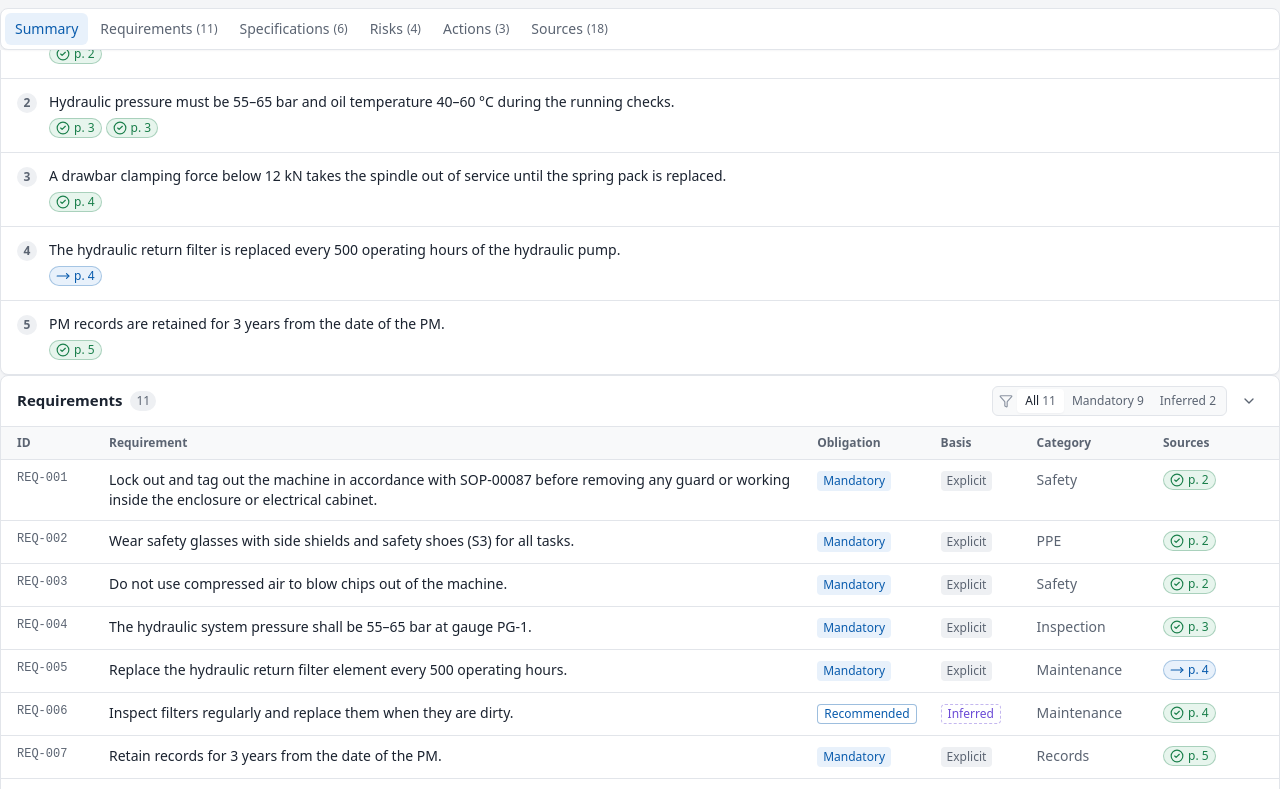
Test: ReportView › filters requirements by mandatory and inferred
Later steps or results of the test are not shown.
(page scrolled)
Click the button "Mandatory 9": (1108, 401) [1064,389,1152,413]
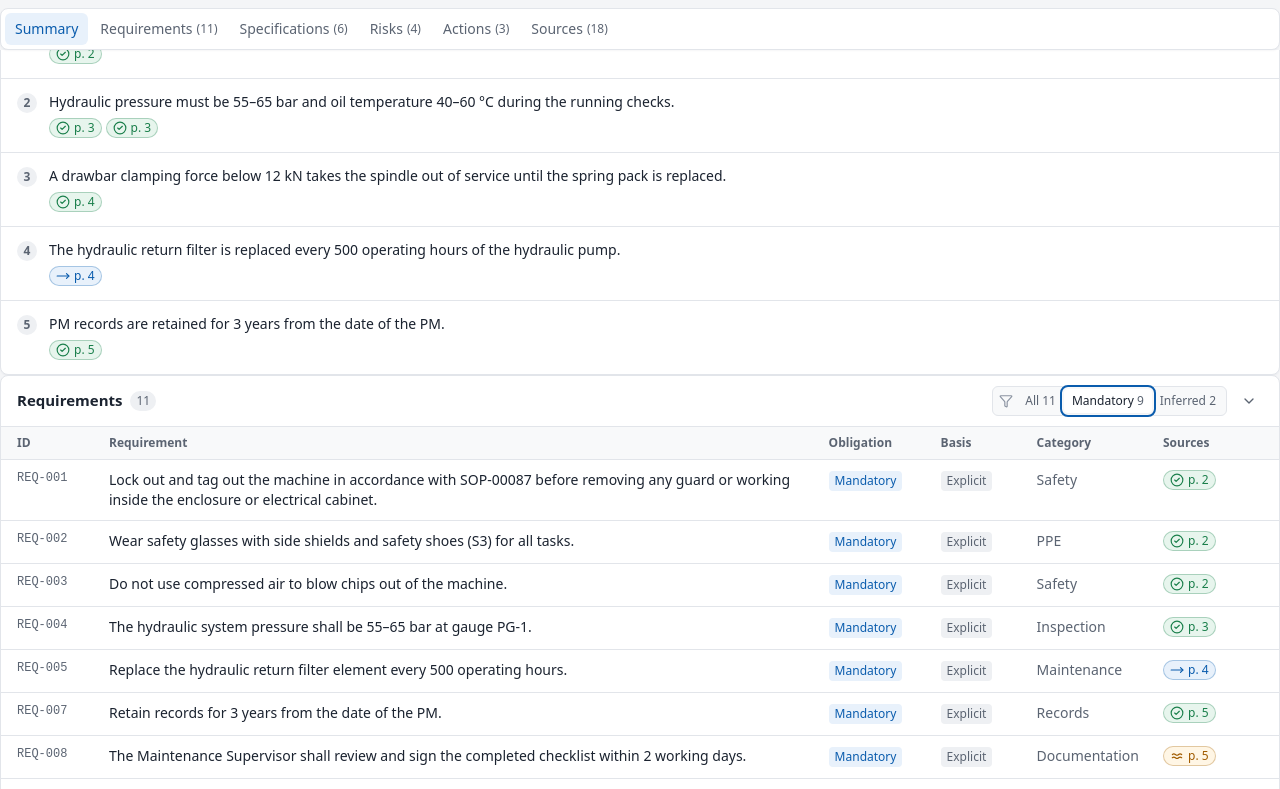
Now the text "REQ-006" is gone
